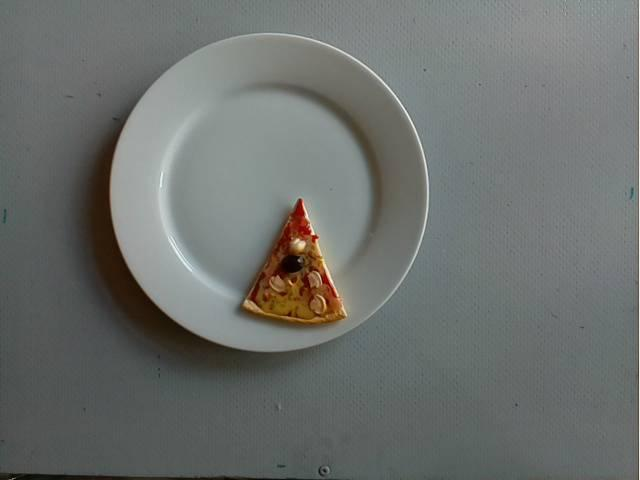Pizza slice (mushroom): (242, 200, 351, 322)
